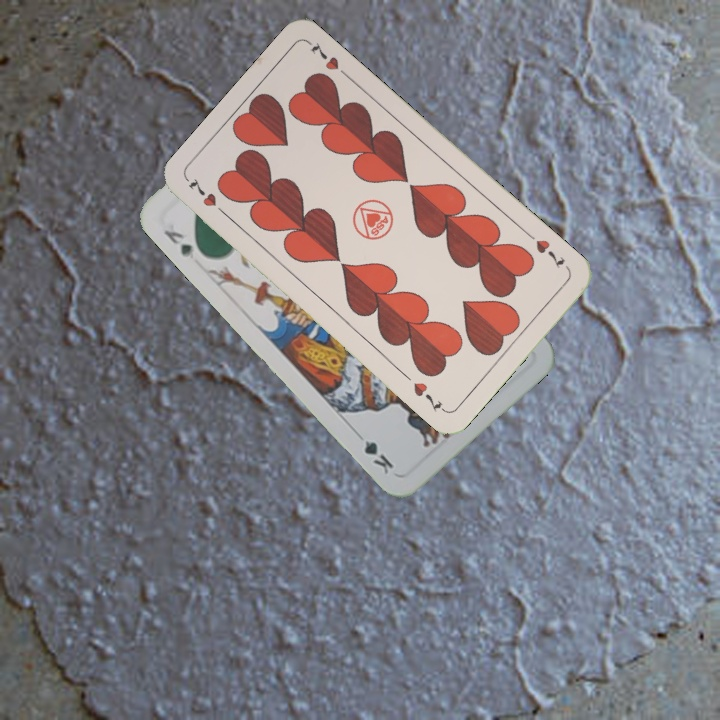GK: (159, 225, 198, 262)
H7: (183, 174, 231, 220), (522, 228, 568, 270)
